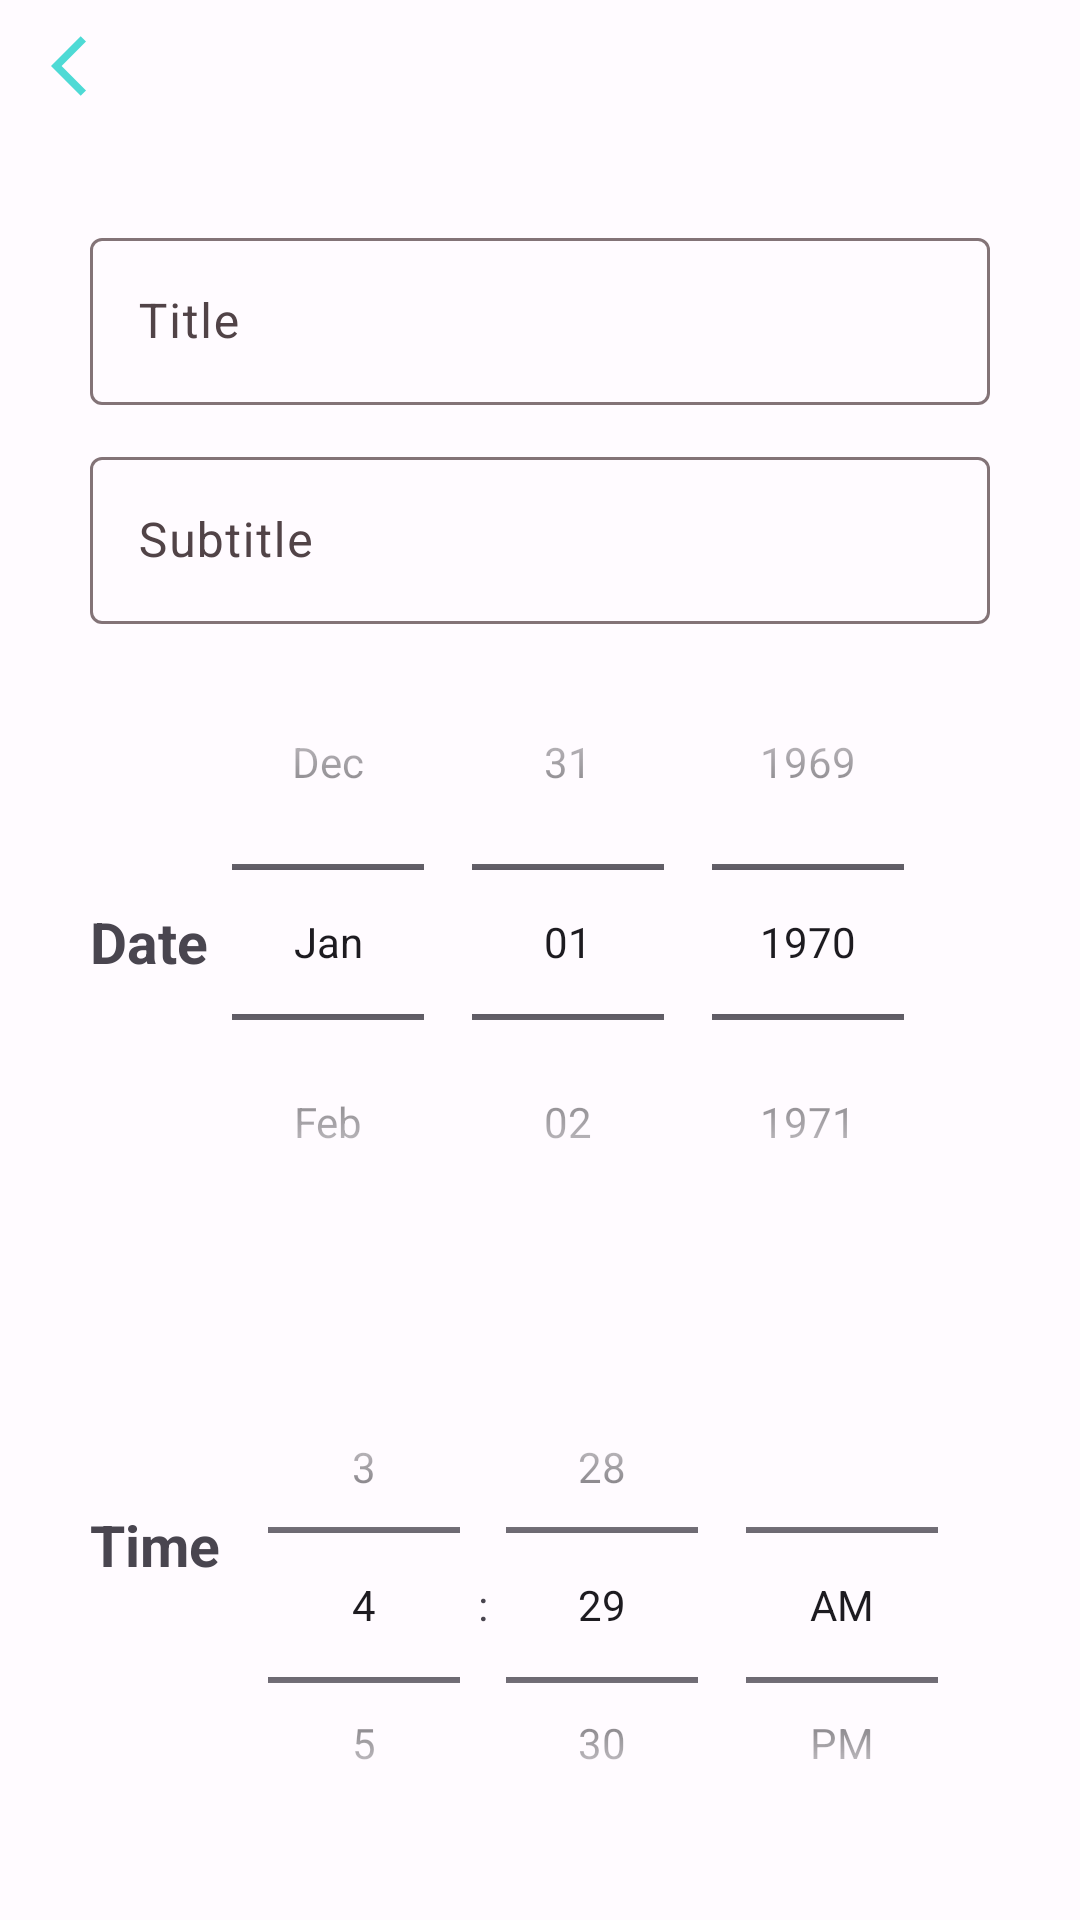

Point at icon controls on the screen. Image size 1080px x 1920px, points as point (x, y).
arrow back: point (68, 66)
